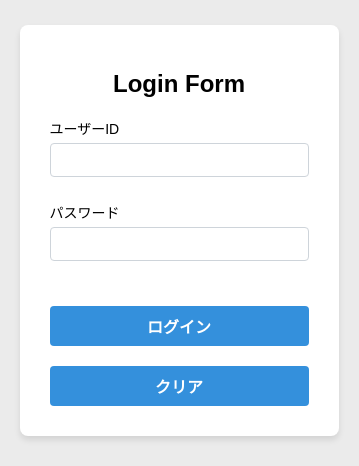
Test: [ログイン-異常系]ログインができないこと › 2-4:PWが未入力だった場合
The image size is (359, 466).
Type "root" into the field labelled "ユーザーID" at (179, 160), box top-left (50, 142), bottom-right (308, 176)
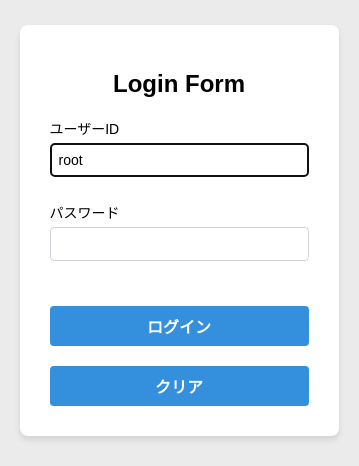
# ログインボタン押下
Click the button "ログイン" at (179, 326), box top-left (50, 306), bottom-right (308, 346)
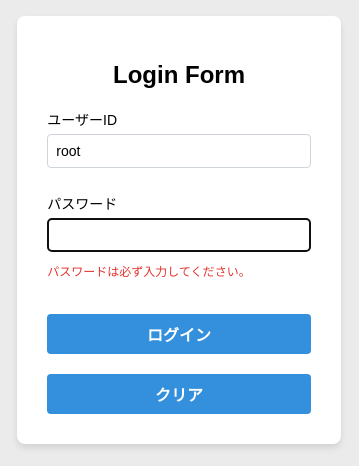
Now the text "パスワードは必ず入力してください。" is shown, box top-left (47, 265), bottom-right (251, 279)
